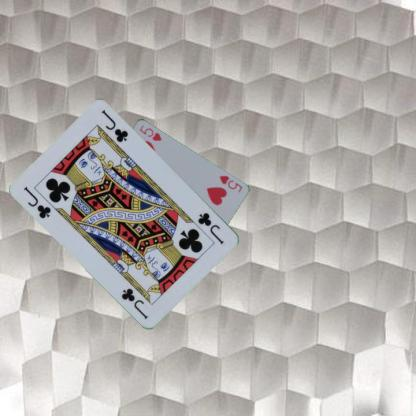5h: (217, 172, 243, 194)
Jc: (22, 184, 52, 220), (196, 210, 226, 245)
